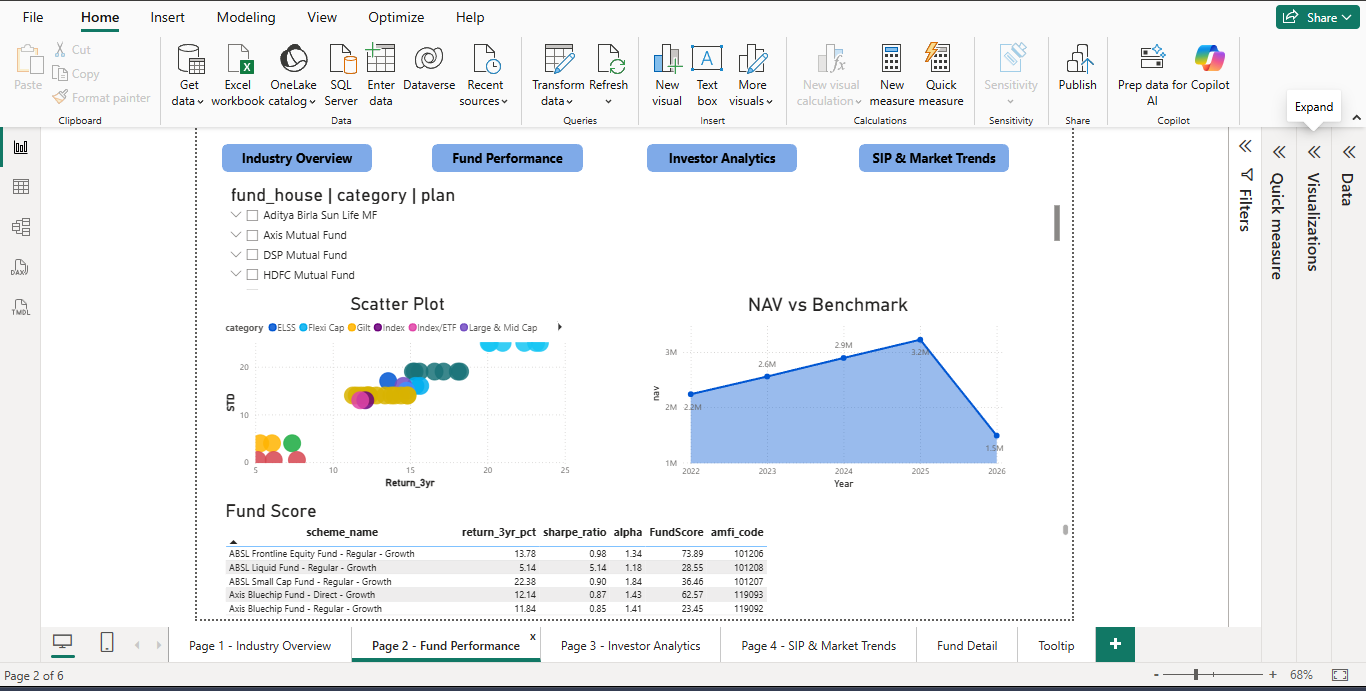

The dashboard page shown, as its layout file describes it:
{"tool":"powerbi","page":{"name":"Page 2 - Fund Performance","canvas":[1280,720],"ordinal":1},"visuals":[{"type":"scatterChart","title":"Scatter Plot","fields":{"Size":["Measures .Total AUM"],"X":["07_scheme_performance.return_3yr_pct"],"Series":["07_scheme_performance.category"],"Y":["07_scheme_performance.std_dev_ann_pct"]},"box":[36.6,242.9,513.7,291.2],"z":0},{"type":"slicer","fields":{"Values":["01_fund_master.fund_house","01_fund_master.category","01_fund_master.plan"]},"box":[36.6,77.6,1230.7,165.4],"z":1000},{"type":"tableEx","title":"Fund Score","fields":{"Values":["07_scheme_performance.scheme_name","07_scheme_performance.return_3yr_pct","07_scheme_performance.sharpe_ratio","07_scheme_performance.alpha","fund_scorecard.FundScore","01_fund_master.amfi_code"]},"box":[36.6,545.9,1243.9,174.1],"z":2000},{"type":"lineChart","title":"NAV vs Benchmark","fields":{"Category":["02_nav_history.date.Variation.Date Hierarchy.Year","02_nav_history.date.Variation.Date Hierarchy.Quarter","02_nav_history.date.Variation.Date Hierarchy.Month","02_nav_history.date.Variation.Date Hierarchy.Day"],"Y":["Sum(02_nav_history.nav)"]},"box":[658.5,242.9,529.8,291.2],"z":3000},{"type":"actionButton","title":"Industry Overview","box":[36.6,24.9,219.5,41],"z":4000},{"type":"actionButton","box":[343.9,24.9,221,41],"z":5000},{"type":"actionButton","box":[658.5,24.9,219.5,41],"z":6000},{"type":"actionButton","box":[968.8,24.9,219.5,41],"z":7000}]}

Visuals, with their boxes on the page's 1280x720 design canvas (x1, y1, x2, y2). These are canvas units, not pixel positions in the 1366x691 screenshot, which may show the page scaled, cropped or inside an application window:
"Scatter Plot" scatterChart: box=[37, 243, 550, 534]
slicer - 01_fund_master.fund_house x 01_fund_master.category: box=[37, 78, 1267, 243]
"Fund Score" tableEx: box=[37, 546, 1280, 720]
"NAV vs Benchmark" lineChart: box=[658, 243, 1188, 534]
"Industry Overview" actionButton: box=[37, 25, 256, 66]
actionButton: box=[344, 25, 565, 66]
actionButton: box=[658, 25, 878, 66]
actionButton: box=[969, 25, 1188, 66]
